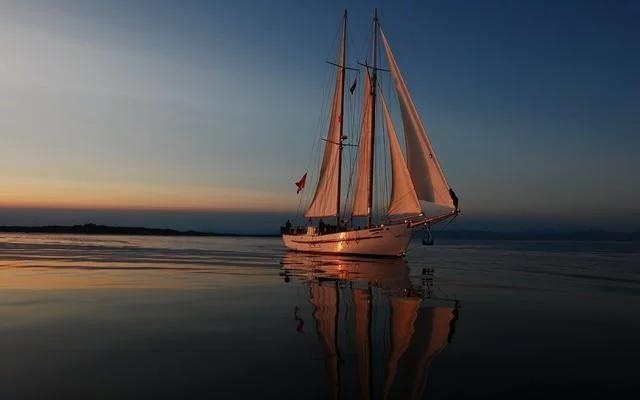fanchuan: (278, 7, 456, 256)
